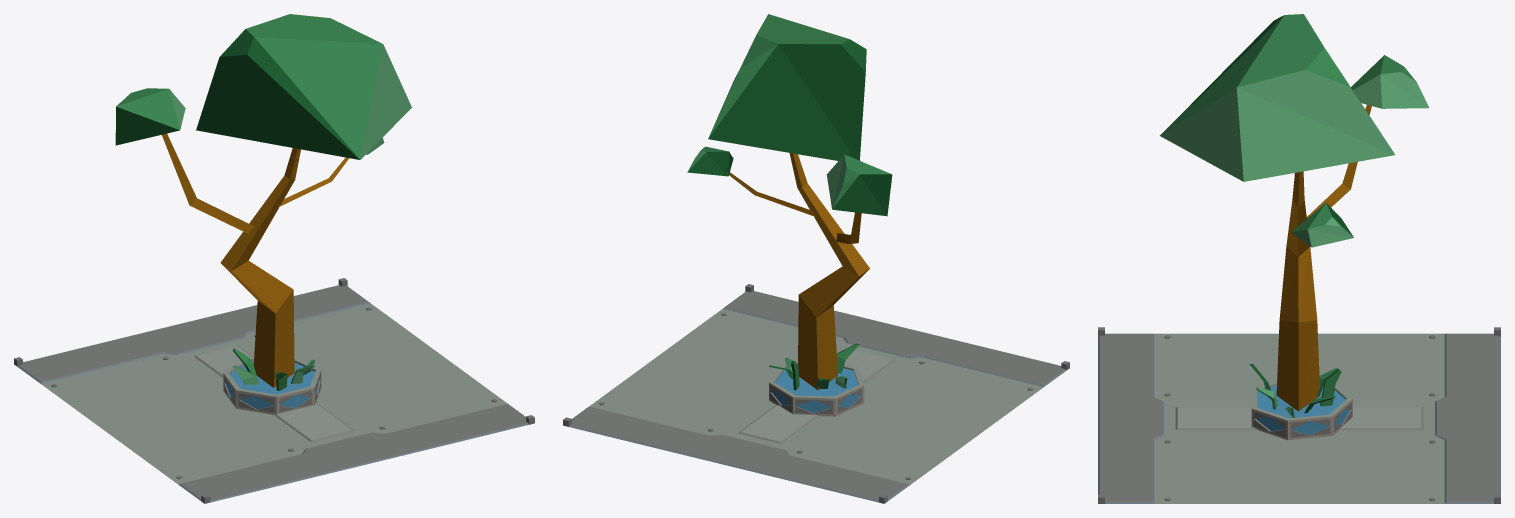
The model's file is Crossroads_B.gltf.
3 views of the same model, side by side, from view 1: azimuth 30°, elevation 25°; view 2: azimuth 150°, elevation 25°; view 3: azimuth 270°, elevation 25° (orthographic). The views are drawn at different scales.
Visible parts, largest first — view 1: Scifi_Panel_01 Plaza014_group4.004; view 2: Scifi_Panel_01 Plaza014_group4.004; view 3: Scifi_Panel_01 Plaza014_group4.004.
Boxes of the visible parts, <box> form: Scifi_Panel_01 Plaza014_group4.004: <box>14,14,534,503</box>; Scifi_Panel_01 Plaza014_group4.004: <box>563,14,1069,503</box>; Scifi_Panel_01 Plaza014_group4.004: <box>1098,14,1500,503</box>.
Size of what is drawn, in the model's own units: 10 by 10.73 by 10.
1 material, 1 textured.
